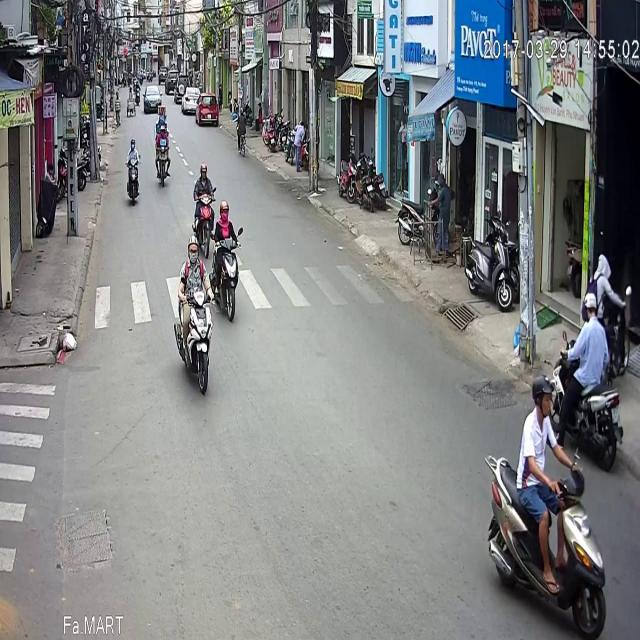bicycle: (235, 48, 248, 98)
car: (194, 34, 218, 69)
motorcycle: (484, 318, 606, 609), (553, 238, 623, 408), (175, 175, 212, 337), (210, 142, 242, 263), (192, 102, 216, 199), (124, 77, 140, 147), (156, 67, 172, 129)
